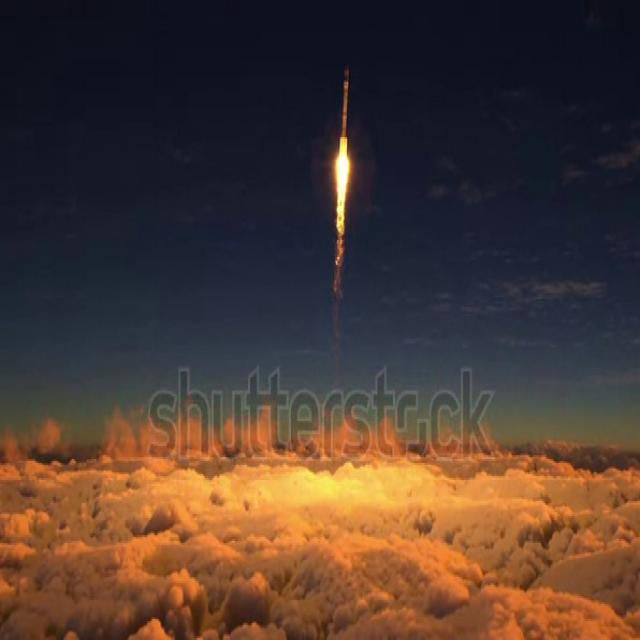rocket: (331, 66, 355, 283)
